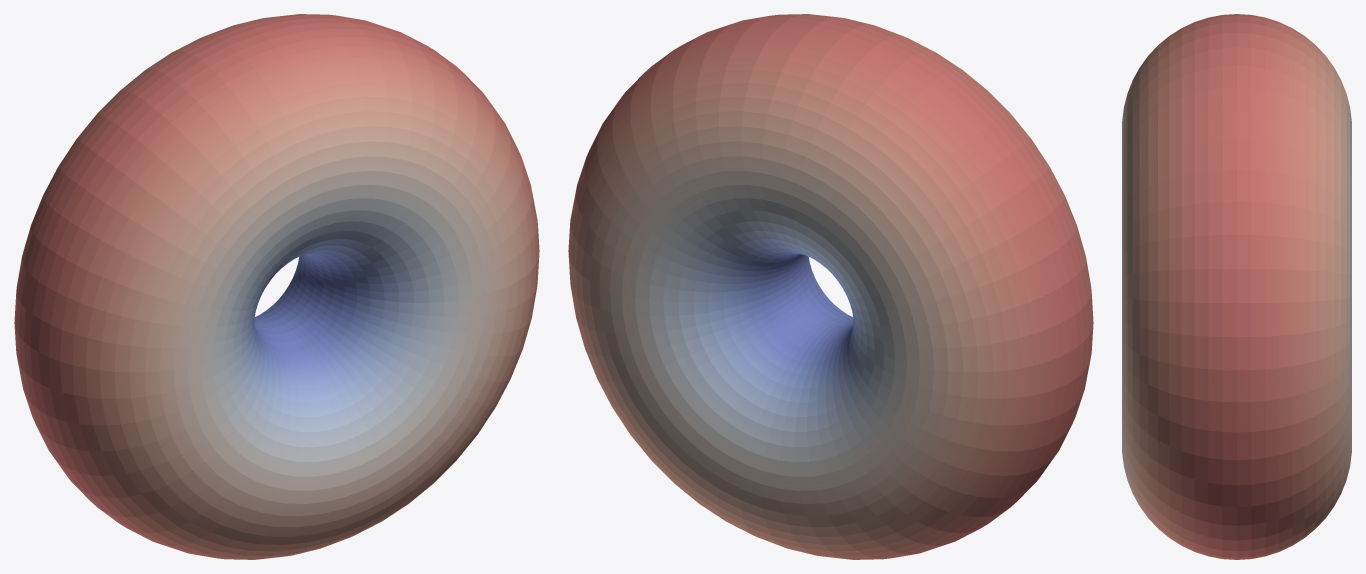
3 views of the same model, side by side, from view 1: azimuth 30°, elevation 25°; view 2: azimuth 150°, elevation 25°; view 3: azimuth 270°, elevation 25° (orthographic). The views are drawn at different scales.
Parts seen in each view (by area): view 1: world; view 2: world; view 3: world.
Boxes of the visible parts, x1=… form: world: x1=14, y1=14, x2=539, y2=559; world: x1=568, y1=14, x2=1093, y2=559; world: x1=1122, y1=14, x2=1351, y2=559.
Bounding box in the file's own units: 23.07 × 23.02 × 9.71.
